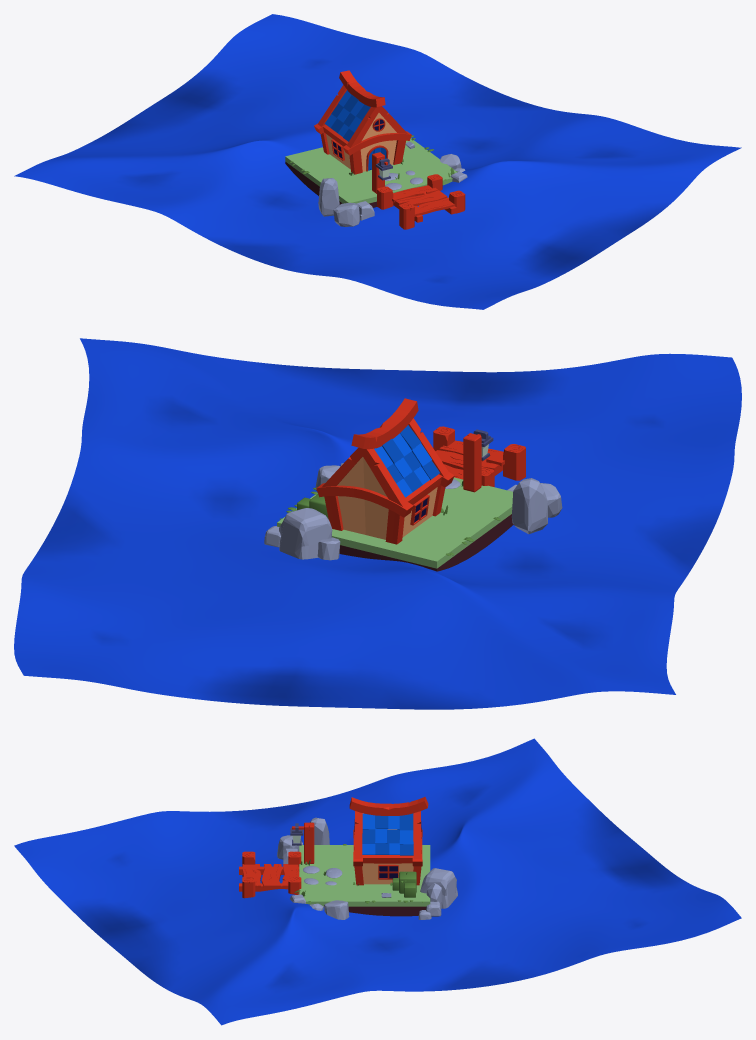
File: casa.fbx
The picture shows the model from 3 angles, top to bottom: view 1: azimuth 30°, elevation 25°; view 2: azimuth 150°, elevation 25°; view 3: azimuth 270°, elevation 25°; orthographic projection. The views are drawn at different scales.
Parts seen in each view (by area): view 1: Sea, Base, wood, walls, woodup, Cubo.103, Cubo.102; view 2: Sea, Base, wood, walls, Cubo.056, Cubo.103, woodup, Cubo.046, Cubo.045; view 3: Sea, Base, wood, woodup, Cubo.056, walls.
Part boxes in pixels (x1,y1,x2,y2): Sea: (14,14,741,309); Base: (285,138,456,207); wood: (314,85,411,174); walls: (326,113,396,171); woodup: (339,70,385,107); Cubo.103: (318,178,339,216); Cubo.102: (333,202,360,226); Sea: (14,338,741,709); Base: (277,477,513,571); wood: (316,418,454,544); walls: (337,457,437,539); Cubo.056: (279,508,332,559); Cubo.103: (511,478,547,534); woodup: (351,398,418,449); Cubo.046: (463,433,481,492); Cubo.045: (503,444,525,480); Sea: (14,738,741,1025); Base: (299,845,430,916); wood: (353,811,422,885); woodup: (349,797,428,815); Cubo.056: (420,868,457,908); walls: (362,813,413,884).
Bounding box in the file's own units: 6610 × 1070 × 7084.
